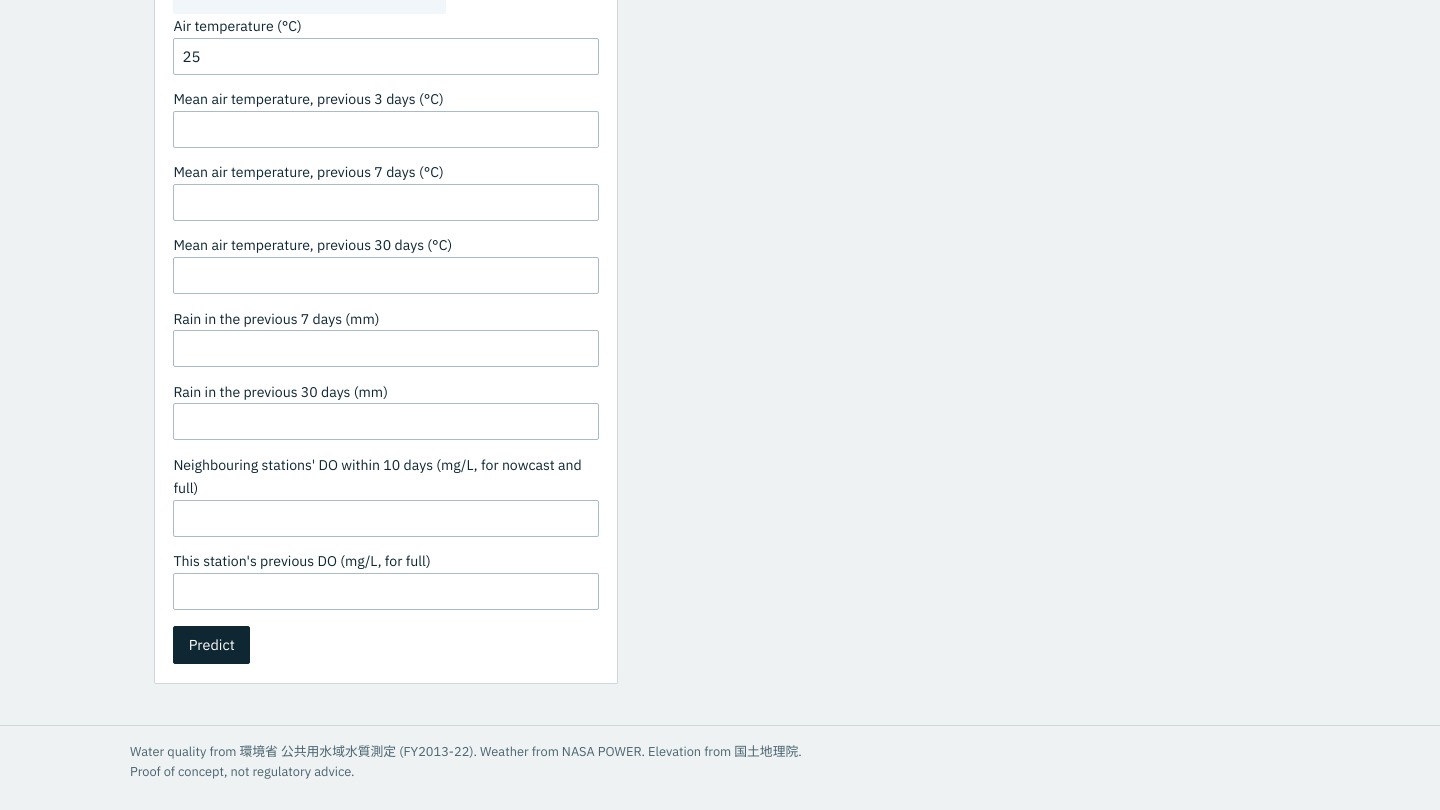
Test: predict page › shows the API's own error text
The width and height of the screenshot is (1440, 810).
(page scrolled)
Click the button "Predict" at (212,645), box [173, 626, 250, 664]
(page scrolled)
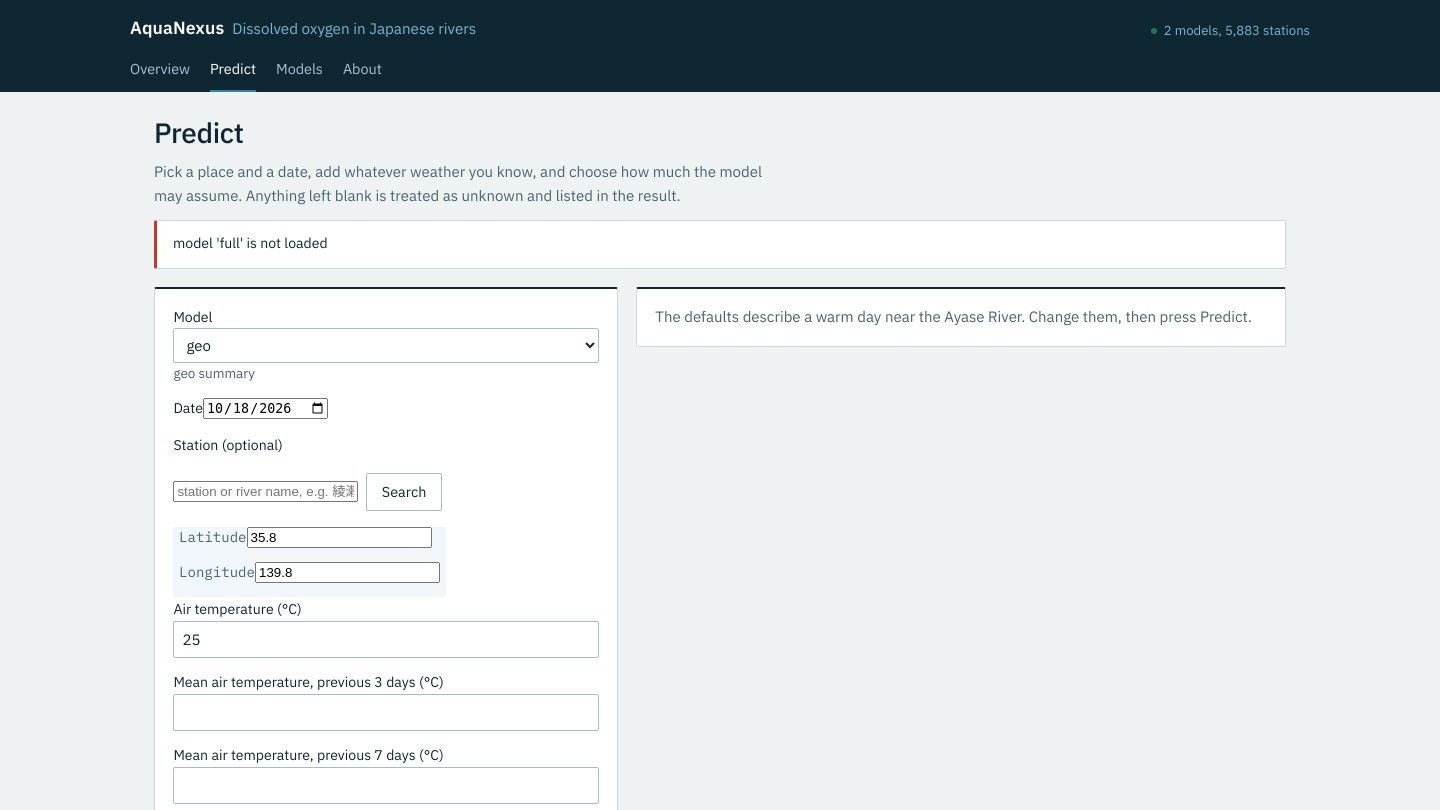
Now the message shows "not loaded", box [173, 234, 328, 252]
